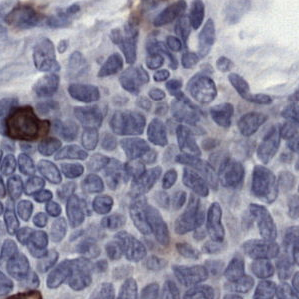Lymphocyte: (5, 104, 51, 143)
